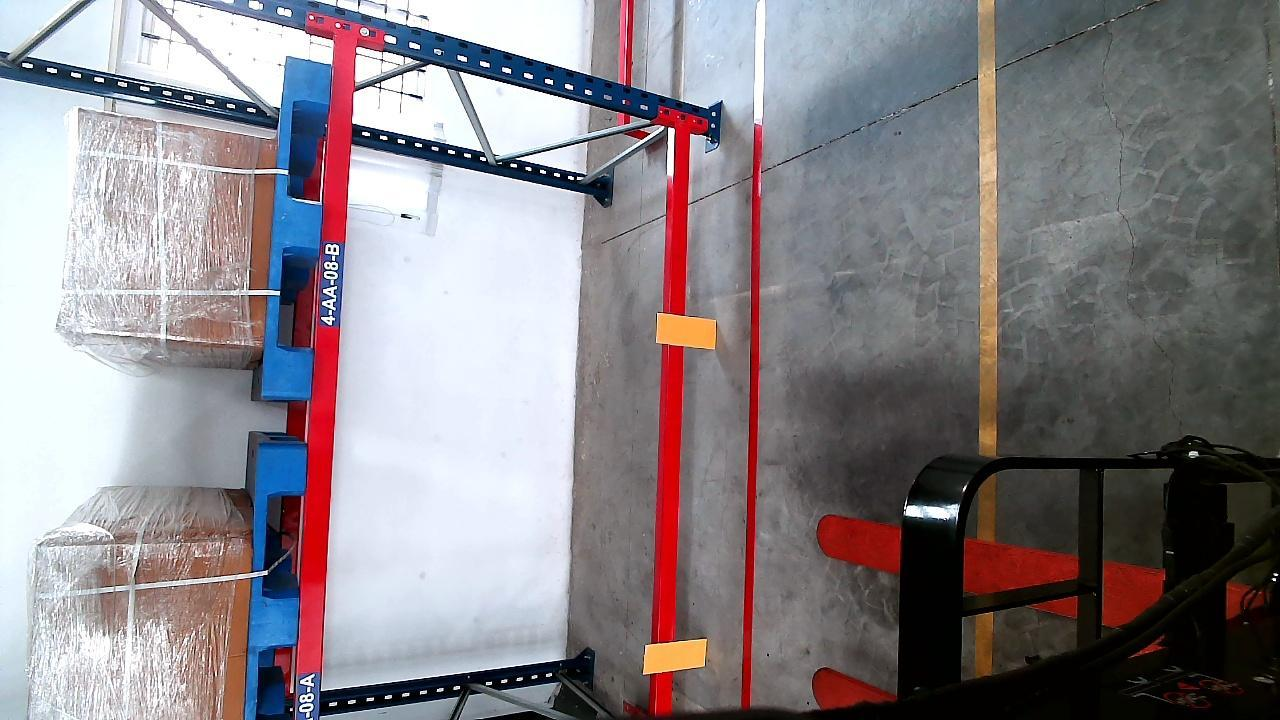red_line: (734, 120, 771, 706)
yellow_line: (978, 0, 1002, 448)
